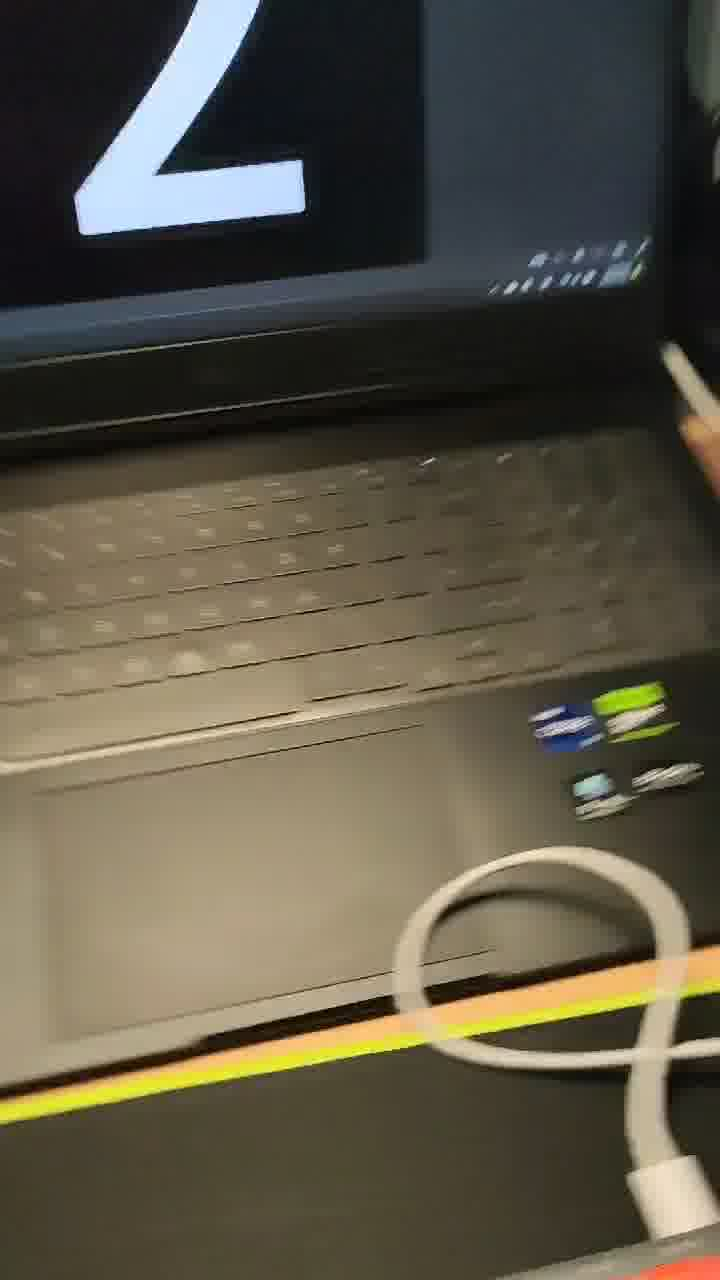two: (16, 1, 328, 289)
